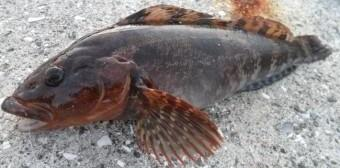fish: (1, 4, 329, 165)
